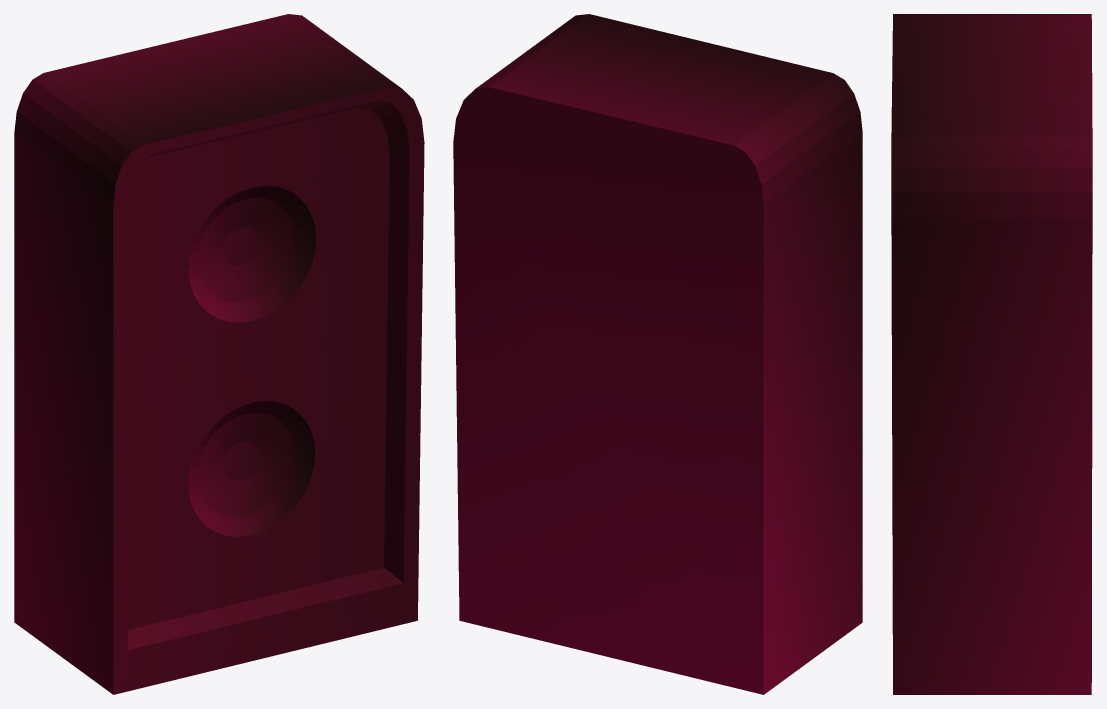
The model's file is Bafle_Grande.fbx.
3 renders of one model, left to right at view 1: azimuth 30°, elevation 25°; view 2: azimuth 150°, elevation 25°; view 3: azimuth 270°, elevation 25°, orthographic.
Parts seen in each view (by area): view 1: Bafle_Grande; view 2: Bafle_Grande; view 3: Bafle_Grande.
Boxes of the visible parts, x1=… form: Bafle_Grande: x1=14, y1=14, x2=424, y2=694; Bafle_Grande: x1=453, y1=14, x2=862, y2=694; Bafle_Grande: x1=891, y1=14, x2=1092, y2=694.
Size of the model in its own units: 2.04 by 3.41 by 1.14.
1 material, 1 textured.
